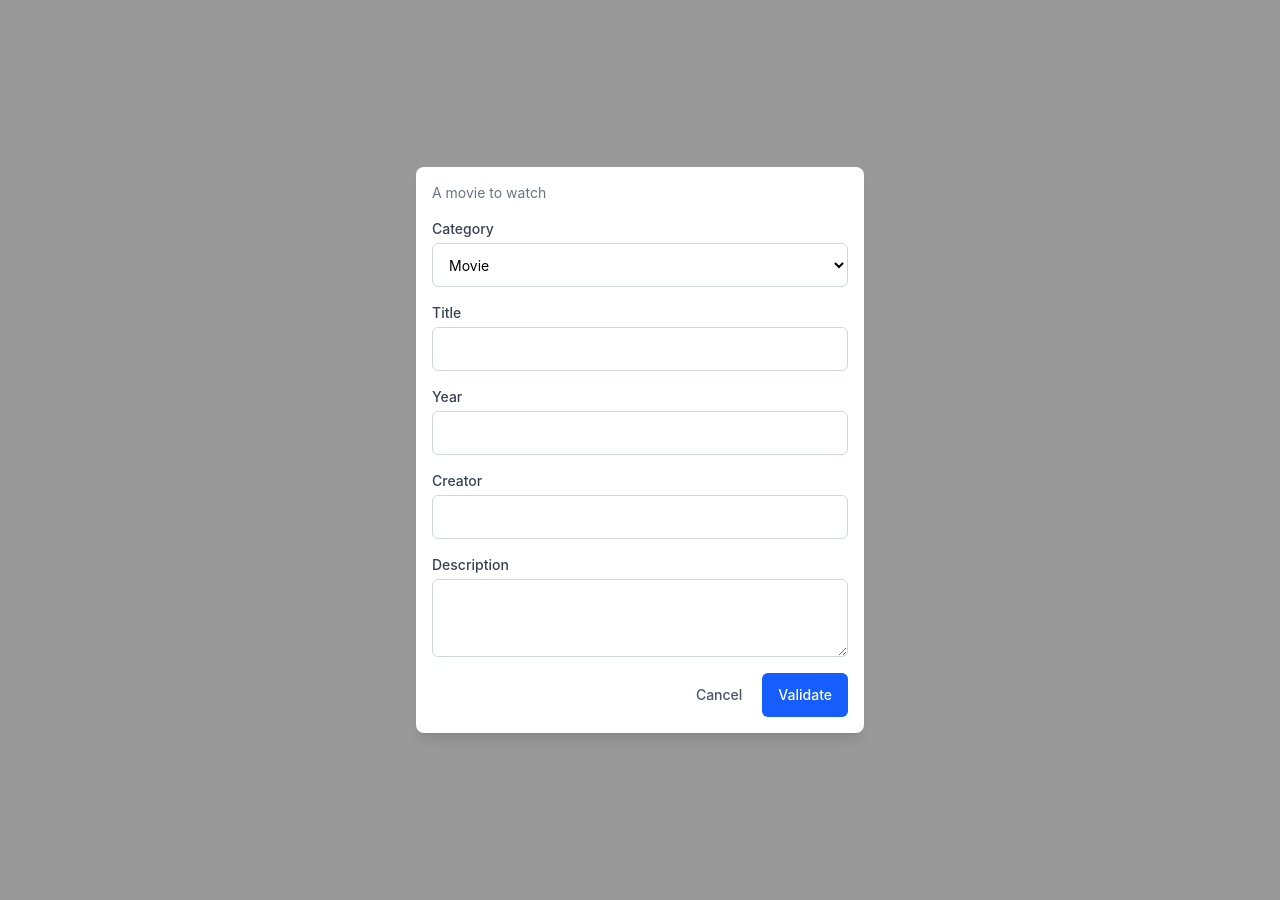
Test case: RefineMetadataModal › requires a title before validating
Click the button "Validate" at (805, 695), box [762, 673, 848, 717]
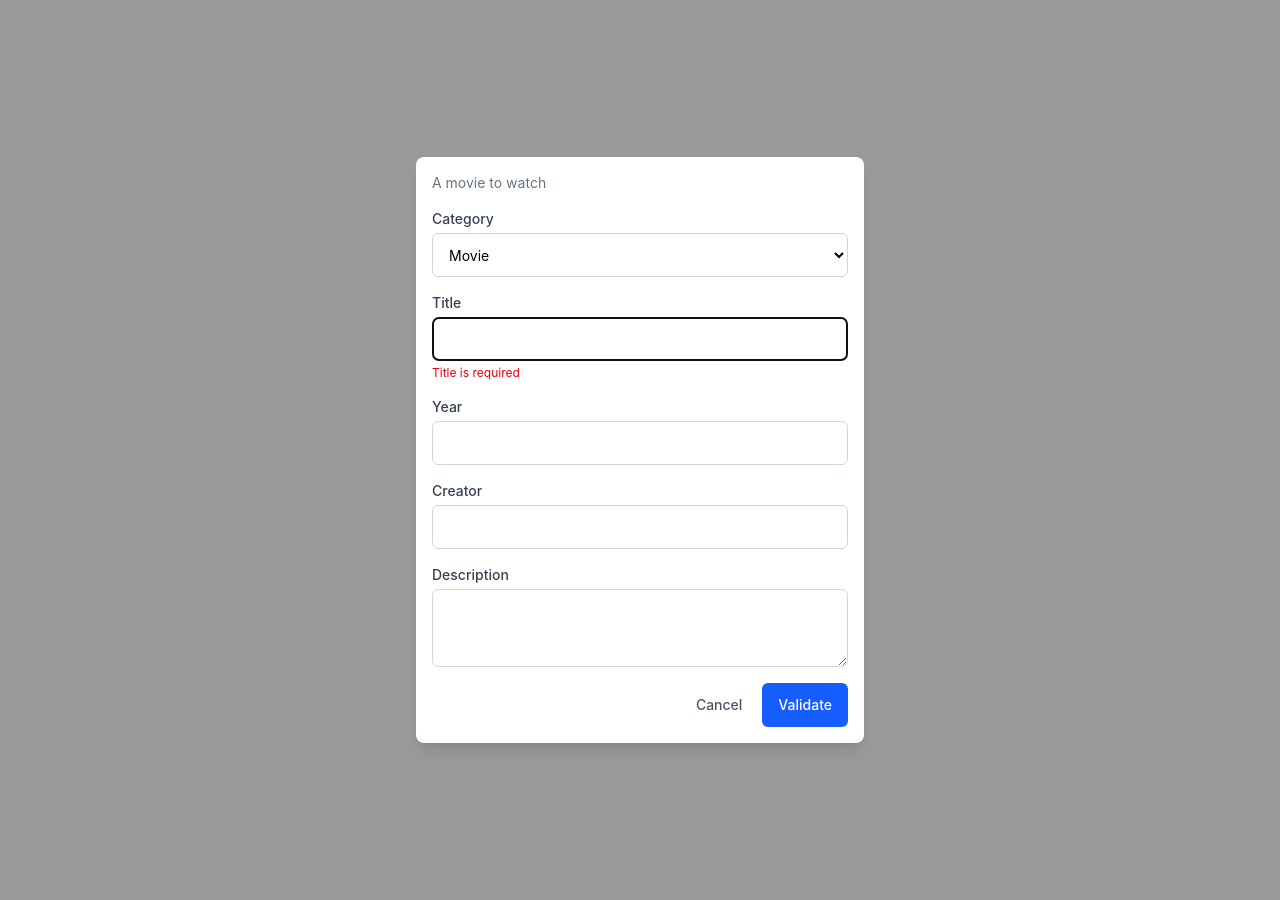
Expected: the message reads "Title is required", [432, 365, 520, 380]
